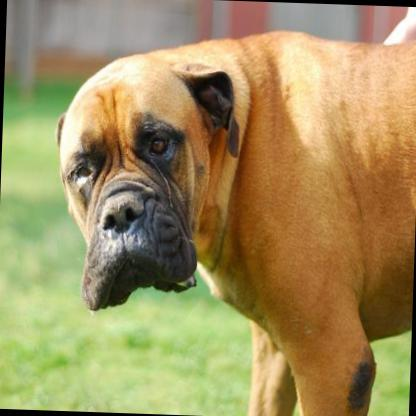bull_mastiff: (47, 23, 416, 416)
